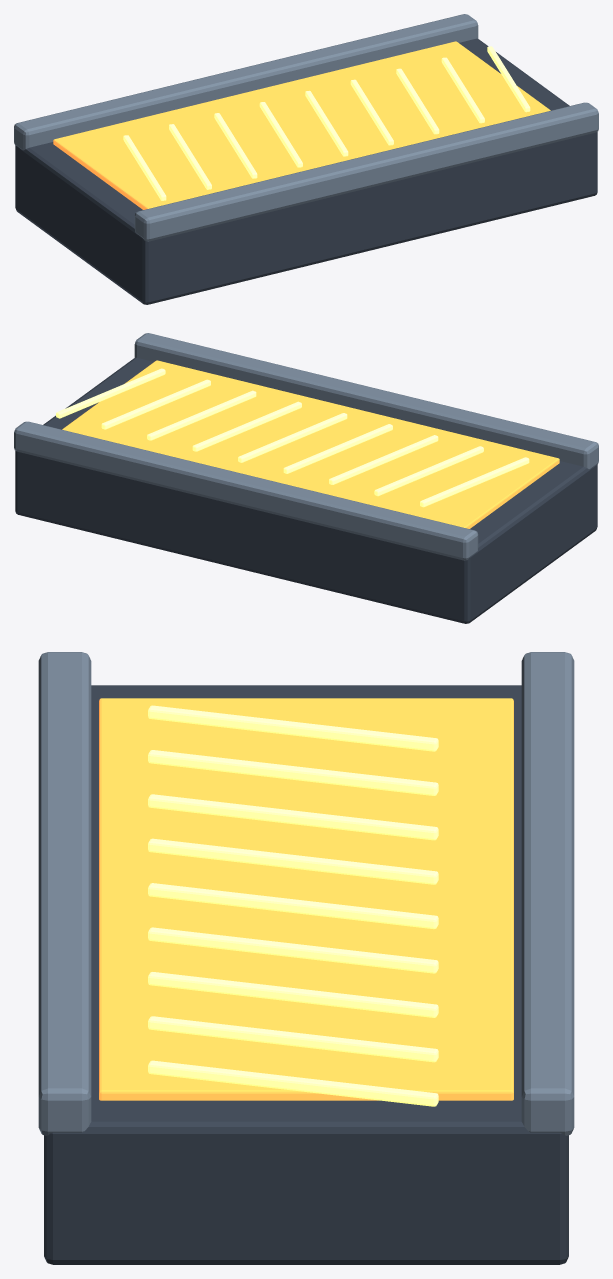
Rendered from lava.glb.
3 views of the same model, one above another, from view 1: azimuth 30°, elevation 25°; view 2: azimuth 150°, elevation 25°; view 3: azimuth 270°, elevation 25° (orthographic). The views are drawn at different scales.
Parts seen in each view (by area): view 1: Lava_Trough, Lava_Surface, Lava_Lip, Lava_Lip.001, Lava_BrightCrack.004, Lava_BrightCrack.005, Lava_BrightCrack.006, Lava_BrightCrack, Lava_BrightCrack.003, Lava_BrightCrack.007, Lava_BrightCrack.008, Lava_BrightCrack.002 (+1 smaller); view 2: Lava_Trough, Lava_Surface, Lava_Lip.001, Lava_Lip, Lava_BrightCrack.006, Lava_BrightCrack.008, Lava_BrightCrack.001, Lava_BrightCrack, Lava_BrightCrack.003, Lava_BrightCrack.004, Lava_BrightCrack.007, Lava_BrightCrack.002 (+1 smaller); view 3: Lava_Surface, Lava_Trough, Lava_Lip, Lava_Lip.001, Lava_BrightCrack, Lava_BrightCrack.003, Lava_BrightCrack.005, Lava_BrightCrack.007, Lava_BrightCrack.008, Lava_BrightCrack.002, Lava_BrightCrack.004, Lava_BrightCrack.001 (+1 smaller).
Part boxes in pixels (x1,y1,x2,y2): Lava_Trough: (15,38,597,304); Lava_Surface: (53,41,550,209); Lava_Lip: (134,102,598,241); Lava_Lip.001: (14,14,478,150); Lava_BrightCrack.004: (305,90,348,156); Lava_BrightCrack.005: (350,79,393,145); Lava_BrightCrack.006: (396,68,439,134); Lava_BrightCrack: (123,135,166,200); Lava_BrightCrack.003: (259,102,302,167); Lava_BrightCrack.007: (441,57,484,123); Lava_BrightCrack.008: (487,46,530,112); Lava_BrightCrack.002: (214,113,257,178); Lava_Trough: (15,357,597,623); Lava_Surface: (62,360,559,528); Lava_Lip.001: (14,421,478,560); Lava_Lip: (134,333,598,469); Lava_BrightCrack.006: (147,390,256,440); Lava_BrightCrack.008: (56,368,165,418); Lava_BrightCrack.001: (374,446,483,496); Lava_BrightCrack: (420,457,529,507); Lava_BrightCrack.003: (283,424,392,473); Lava_BrightCrack.004: (238,413,347,462); Lava_BrightCrack.007: (101,379,210,429); Lava_BrightCrack.002: (329,435,438,484); Lava_Surface: (99,698,513,1100); Lava_Trough: (44,685,568,1264); Lava_Lip: (38,652,91,1135); Lava_Lip.001: (521,652,574,1135); Lava_BrightCrack: (148,705,438,751); Lava_BrightCrack.003: (148,838,438,884); Lava_BrightCrack.005: (148,927,438,973); Lava_BrightCrack.007: (148,1016,438,1062); Lava_BrightCrack.008: (148,1060,438,1106); Lava_BrightCrack.002: (148,794,438,840); Lava_BrightCrack.004: (148,883,438,929); Lava_BrightCrack.001: (148,750,438,795).
Bounding box in the file's own units: 4 × 0.74 × 2.04.
